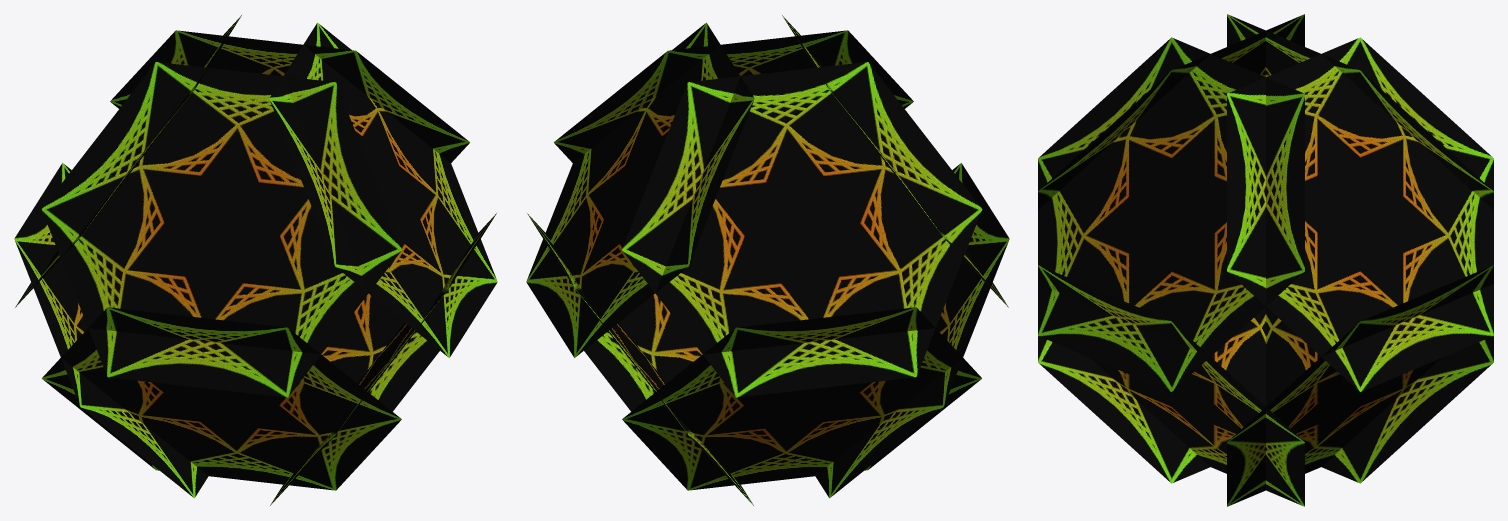
Rendered from CubitruncatedCuboctahedron45.gltf.
The picture shows the model from 3 angles, left to right: view 1: azimuth 30°, elevation 25°; view 2: azimuth 150°, elevation 25°; view 3: azimuth 270°, elevation 25°; orthographic projection.
Visible parts, largest first — view 1: CubitruncatedCuboctahedron; view 2: CubitruncatedCuboctahedron; view 3: CubitruncatedCuboctahedron.
Part boxes in pixels (x1,y1,x2,y2): CubitruncatedCuboctahedron: (14,15,497,505); CubitruncatedCuboctahedron: (526,15,1009,505); CubitruncatedCuboctahedron: (1038,14,1493,506).
Bounding box in the file's own units: 2.41 × 2.41 × 2.41.
1 material, 1 textured.
